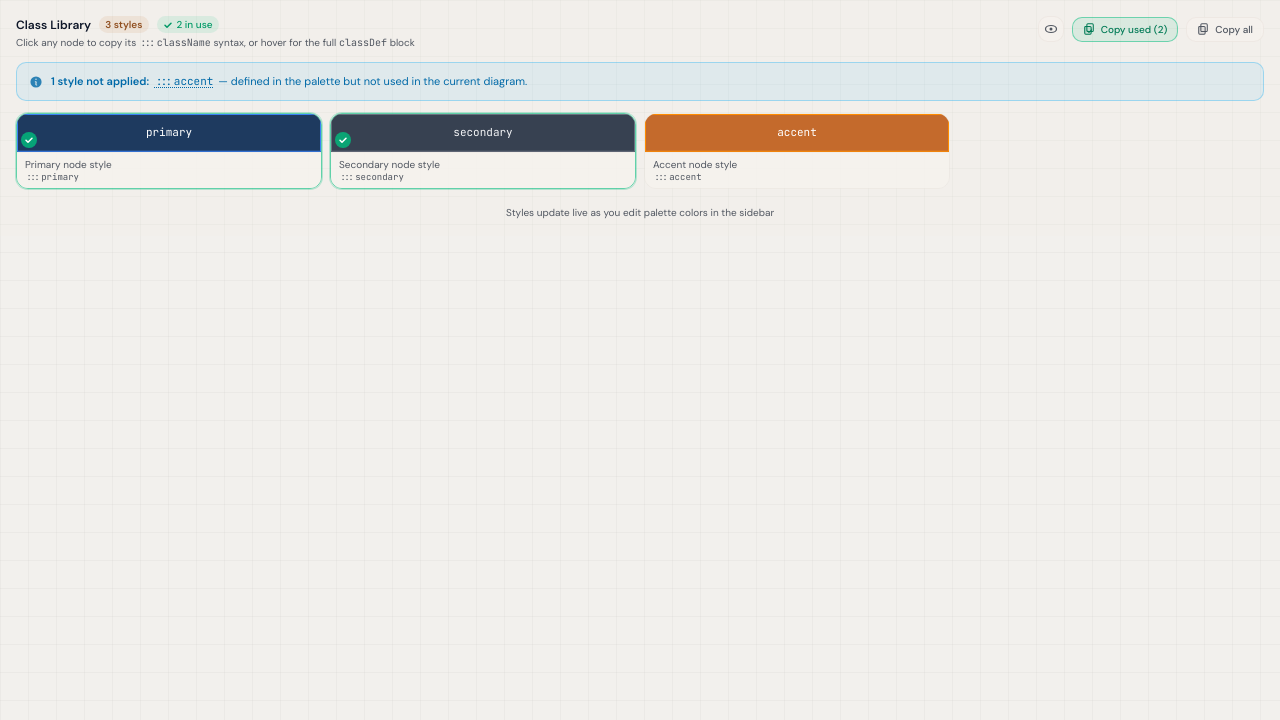
ClassBrowser preview — header label changes with mode › header includes '(used only)' suffix when in 'used' mode
Click the button named "Preview all classDefs". click: (1051, 29)
box: [1038,16,1064,42]
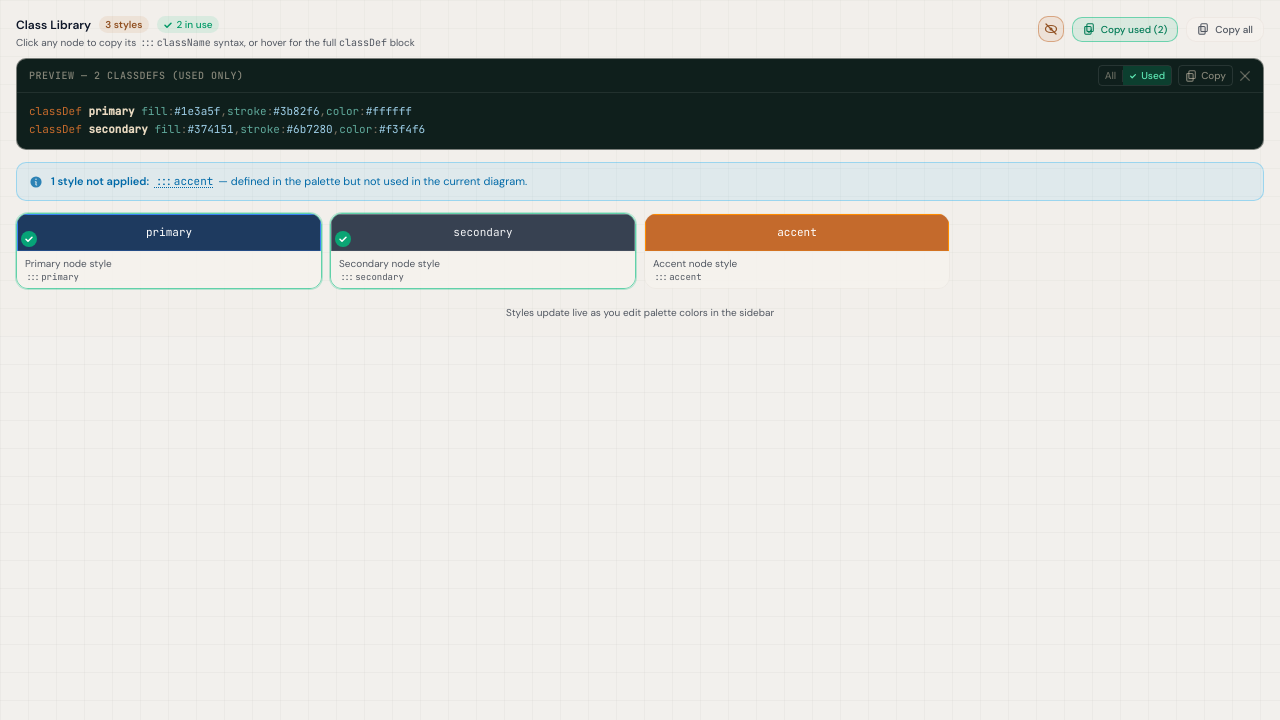
Now the text "(used only)" is shown, box [94,69,244,82]
